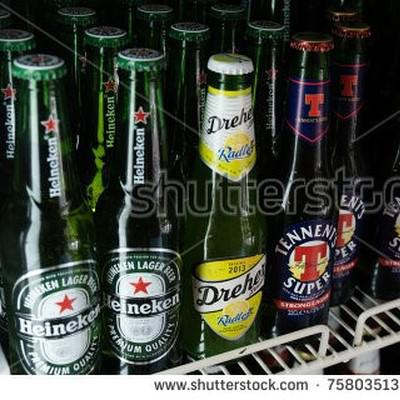beer: (2, 5, 369, 365)
